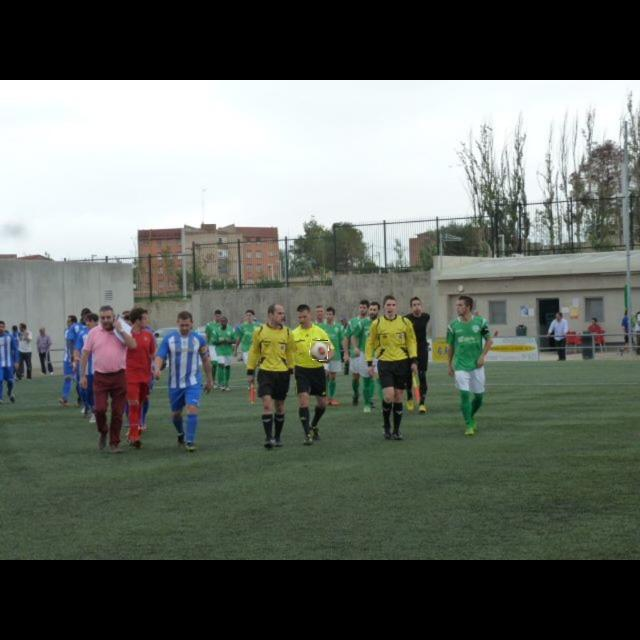Football: (310, 340, 328, 360)
